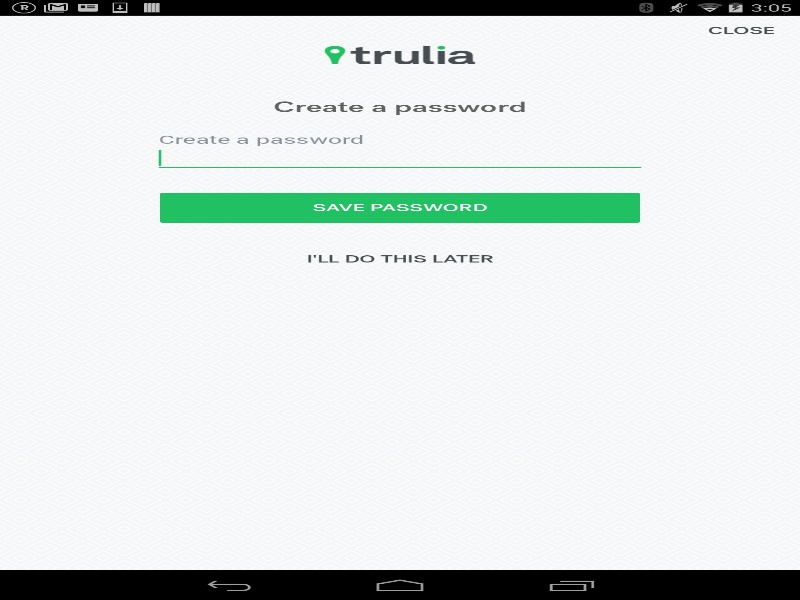Button: (160, 192, 640, 222), (682, 15, 800, 45)
Input: (153, 143, 646, 172)
